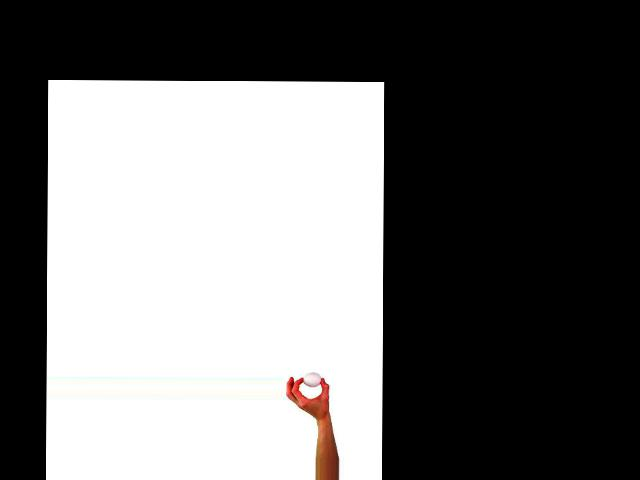egg: (303, 372, 321, 387)
